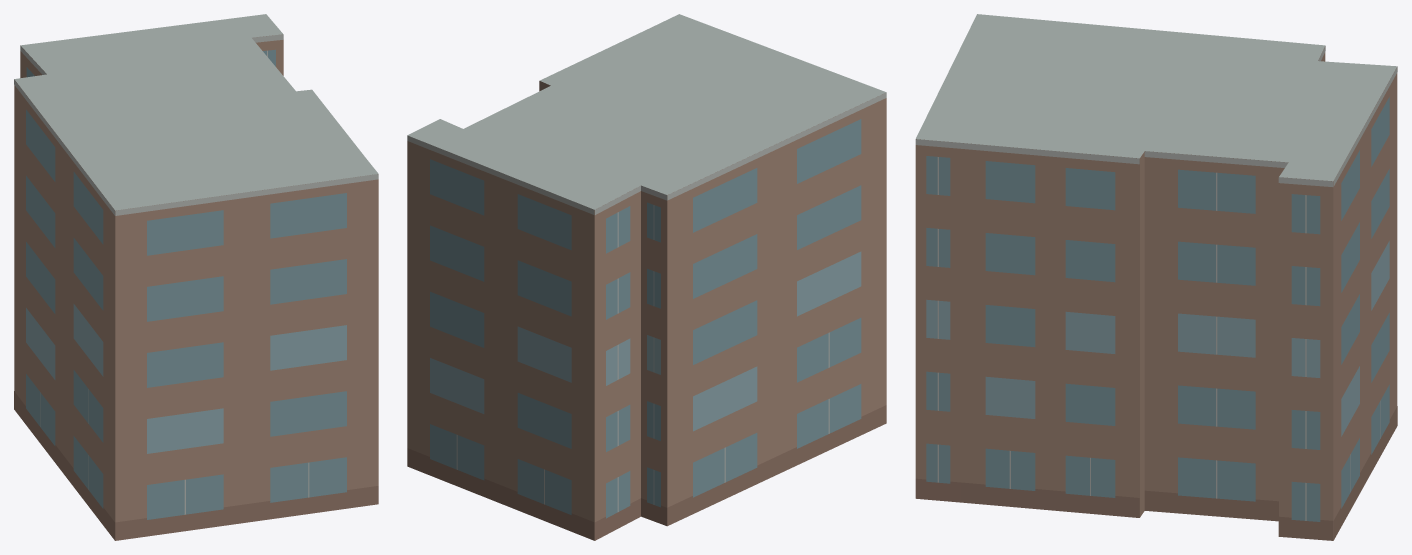
The model's file is survey-upis-32701548.glb.
3 views of the same model, side by side, from view 1: azimuth 30°, elevation 25°; view 2: azimuth 150°, elevation 25°; view 3: azimuth 270°, elevation 25° (orthographic). The views are drawn at different scales.
Visible parts, largest first — view 1: survey-upis-32701548.tmp; view 2: survey-upis-32701548.tmp; view 3: survey-upis-32701548.tmp.
Boxes of the visible parts, bbox=[...] form: survey-upis-32701548.tmp: bbox=[14, 14, 378, 540]; survey-upis-32701548.tmp: bbox=[407, 14, 886, 540]; survey-upis-32701548.tmp: bbox=[915, 14, 1397, 540].
Size of the model in its own units: 14.67 by 14.7 by 17.86.
